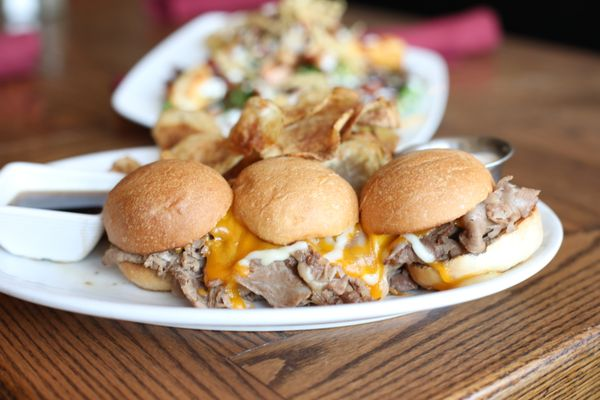soup: (359, 148, 542, 291)
